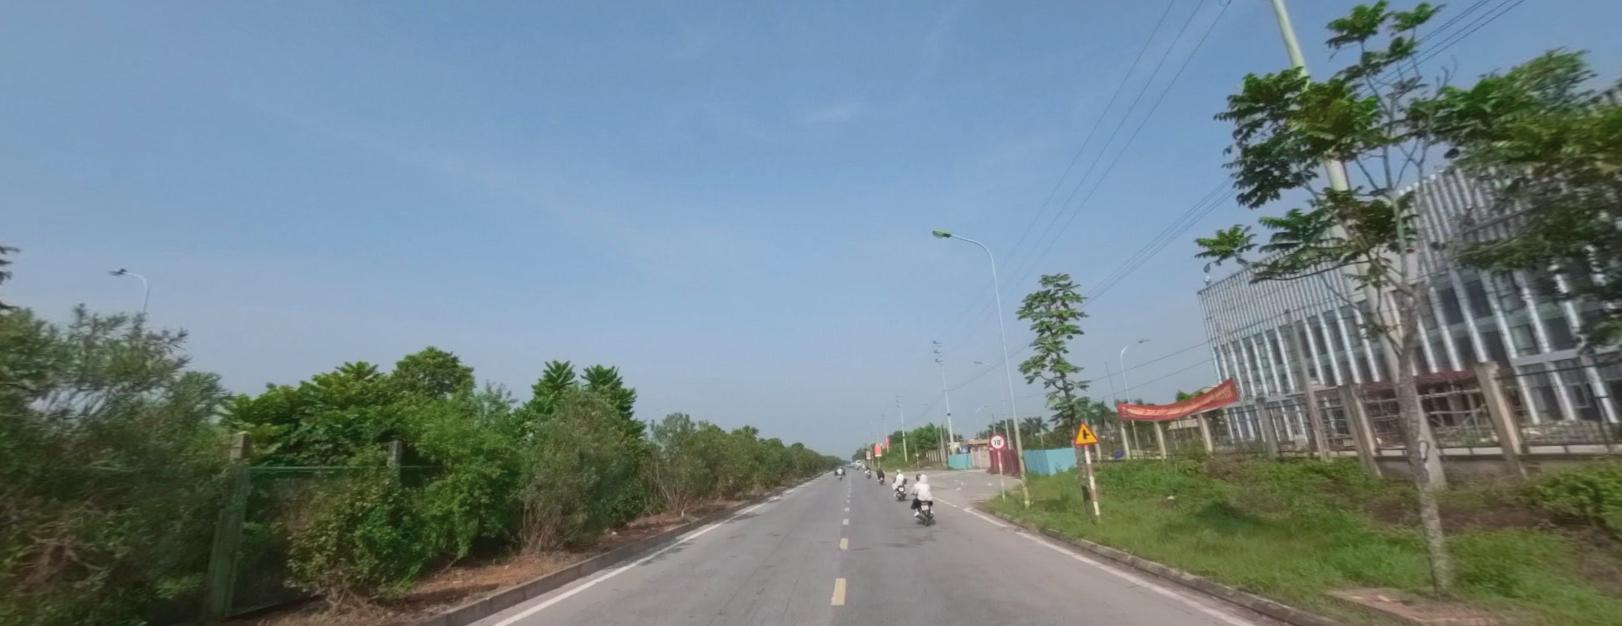Gioi han toc do: (989, 431, 1007, 447)
Nguy hiem: (1073, 418, 1100, 444)
